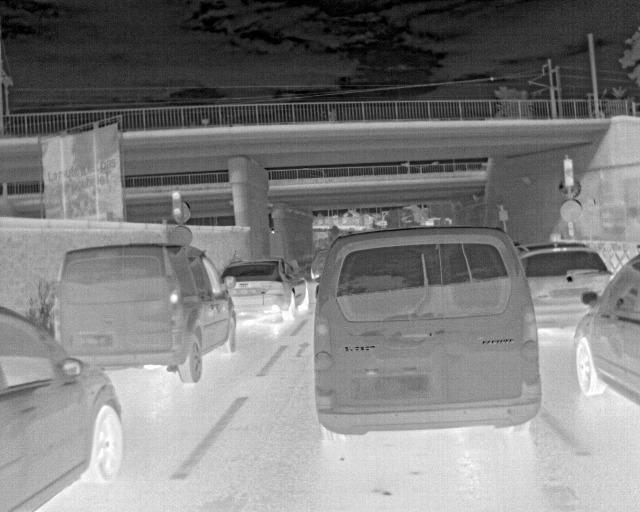car: (313, 225, 542, 444), (52, 242, 236, 384), (0, 308, 125, 511), (573, 244, 639, 407), (515, 240, 614, 330), (220, 257, 309, 321), (310, 248, 331, 280)
light: (171, 190, 183, 220), (564, 159, 575, 186), (568, 222, 573, 235)
sign: (559, 199, 583, 222), (558, 178, 581, 199), (170, 226, 192, 245), (173, 201, 190, 223), (499, 210, 509, 221)
